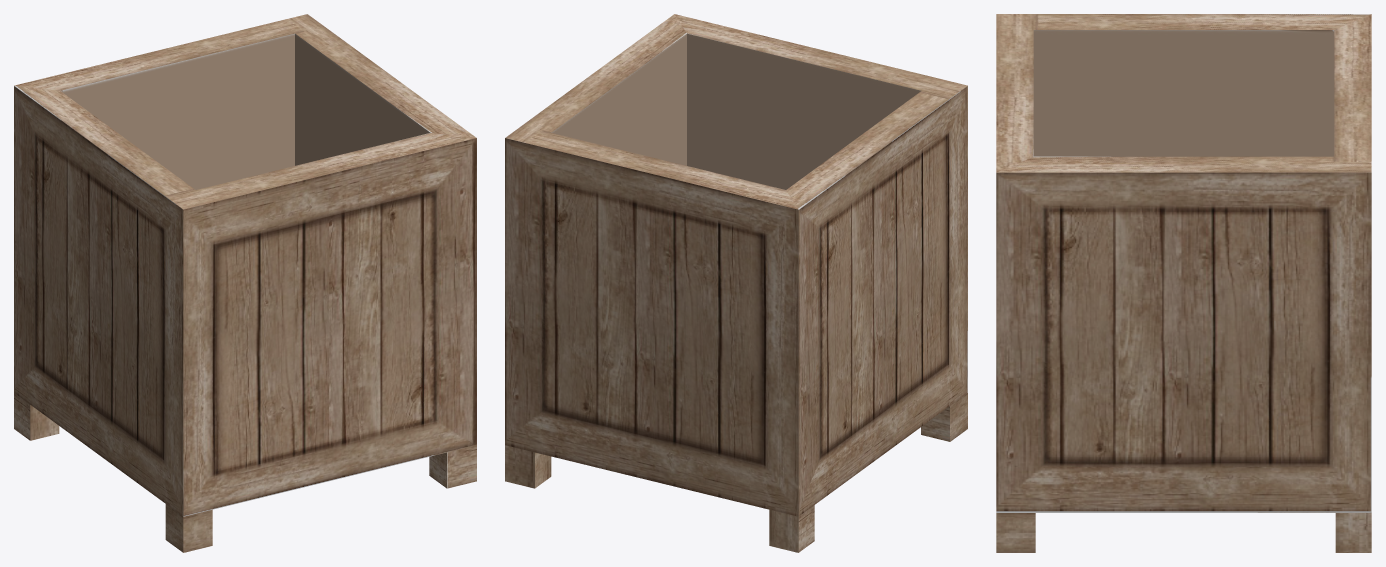
Rendered from hammerStash.fbx.
3 views of the same model, side by side, from view 1: azimuth 30°, elevation 25°; view 2: azimuth 150°, elevation 25°; view 3: azimuth 270°, elevation 25° (orthographic). The views are drawn at different scales.
Parts seen in each view (by area): view 1: Cube; view 2: Cube; view 3: Cube.
Part boxes in pixels (x1,y1,x2,y2): Cube: (14,14,476,552); Cube: (505,14,967,552); Cube: (996,14,1371,552).
Size of the model in its own units: 100 by 112 by 100.
